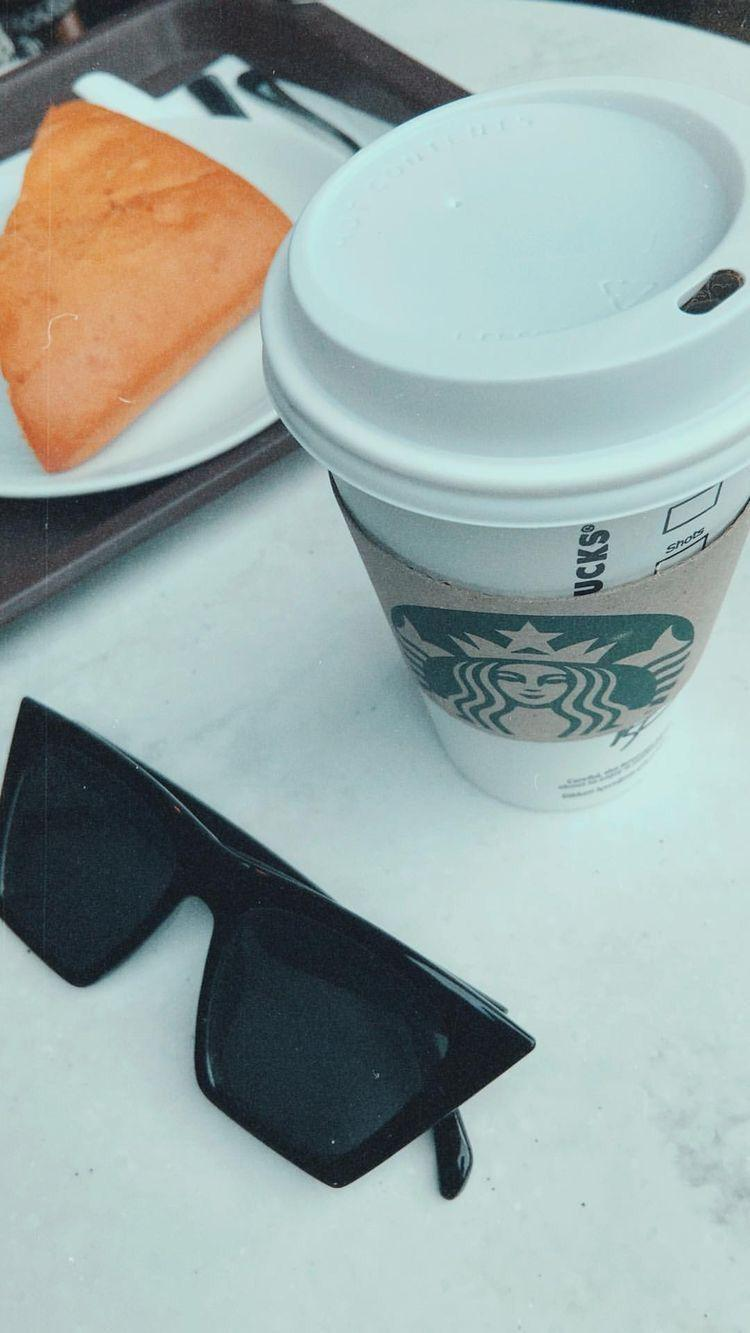cup-disposable: (258, 74, 749, 814)
